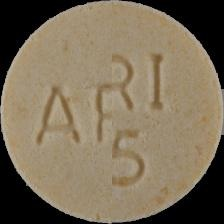60505-2675: (0, 0, 224, 224)
